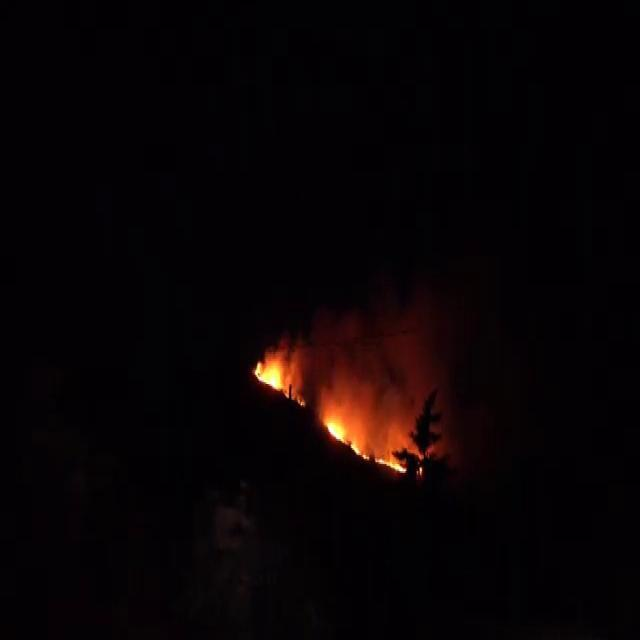Fire: (254, 359, 304, 404), (324, 420, 367, 464), (376, 455, 405, 477)
Smoke: (254, 268, 465, 473)
